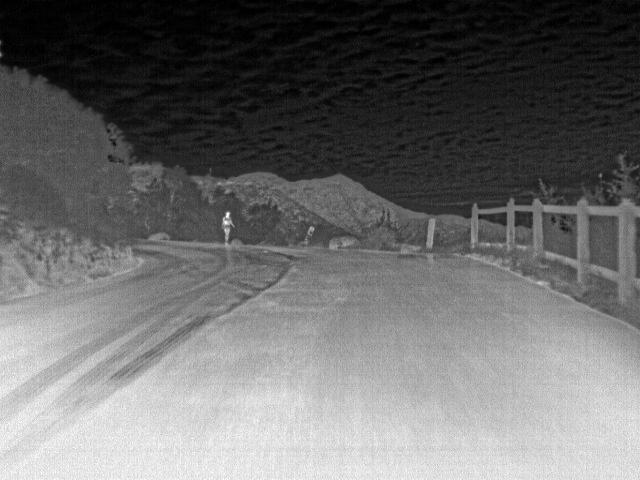person: (220, 210, 236, 246)
